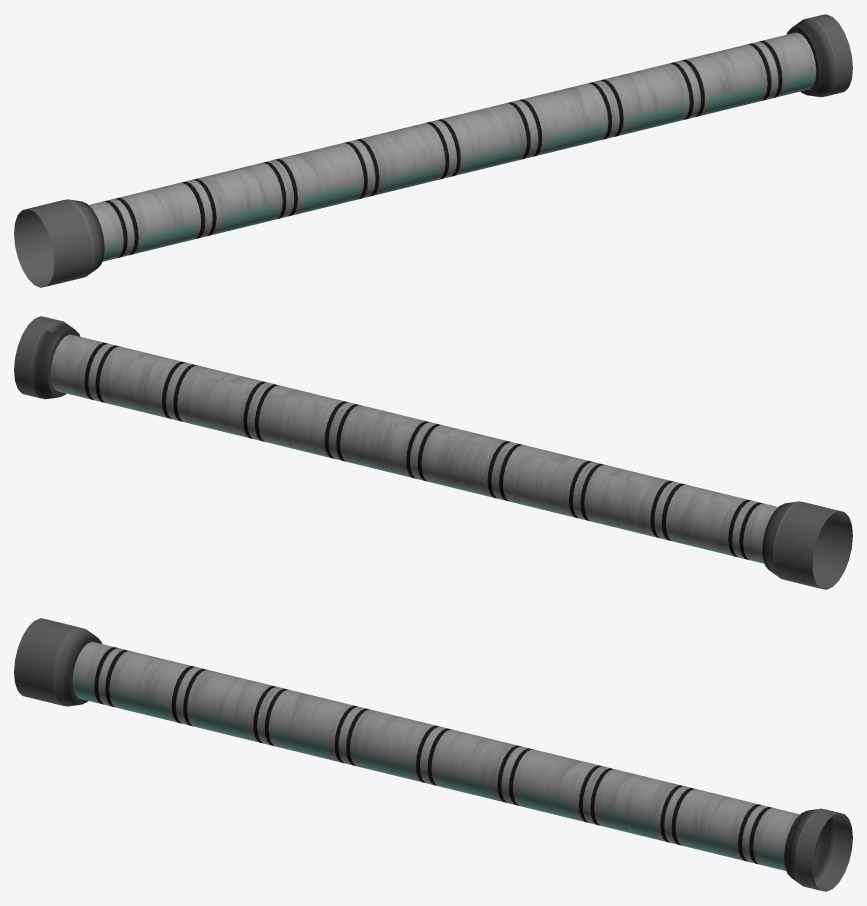
3 views of the same model, one above another, from view 1: azimuth 30°, elevation 25°; view 2: azimuth 150°, elevation 25°; view 3: azimuth 330°, elevation 25° (orthographic).
Parts seen in each view (by area): view 1: tube_2 corroridor_4; view 2: tube_2 corroridor_4; view 3: tube_2 corroridor_4.
Boxes of the visible parts, box(x1,y1,x2,y2) form: tube_2 corroridor_4: box(14, 14, 852, 287); tube_2 corroridor_4: box(14, 316, 852, 589); tube_2 corroridor_4: box(14, 618, 852, 891).
Size of the model in its own units: 20.84 by 1.83 by 1.83.
Materials: 1 (1 with a texture image).
